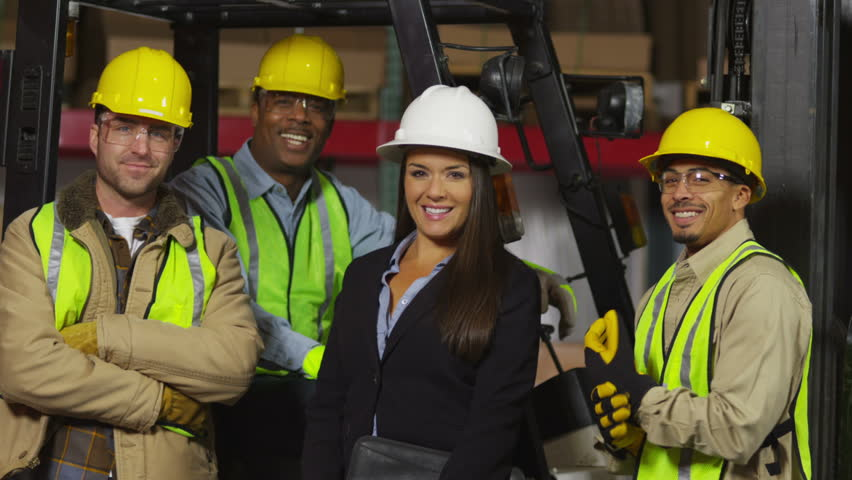epi: (1, 47, 259, 480), (323, 81, 539, 480), (587, 107, 813, 480), (170, 30, 396, 378)
